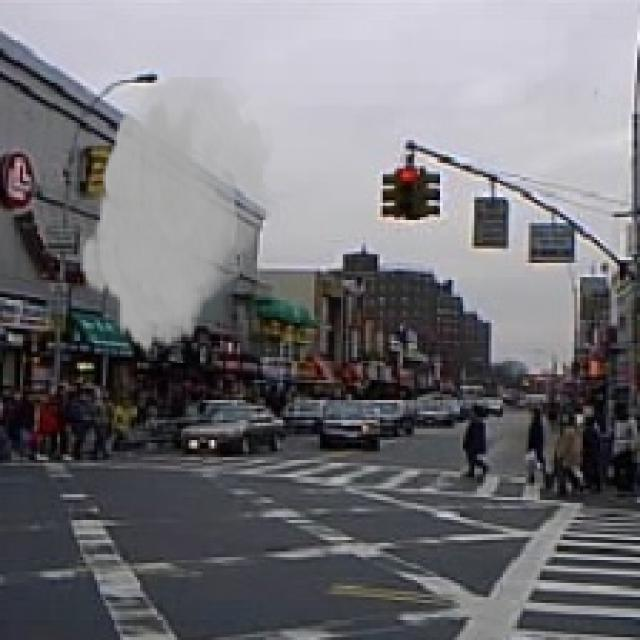Smoke: (80, 77, 280, 357)
